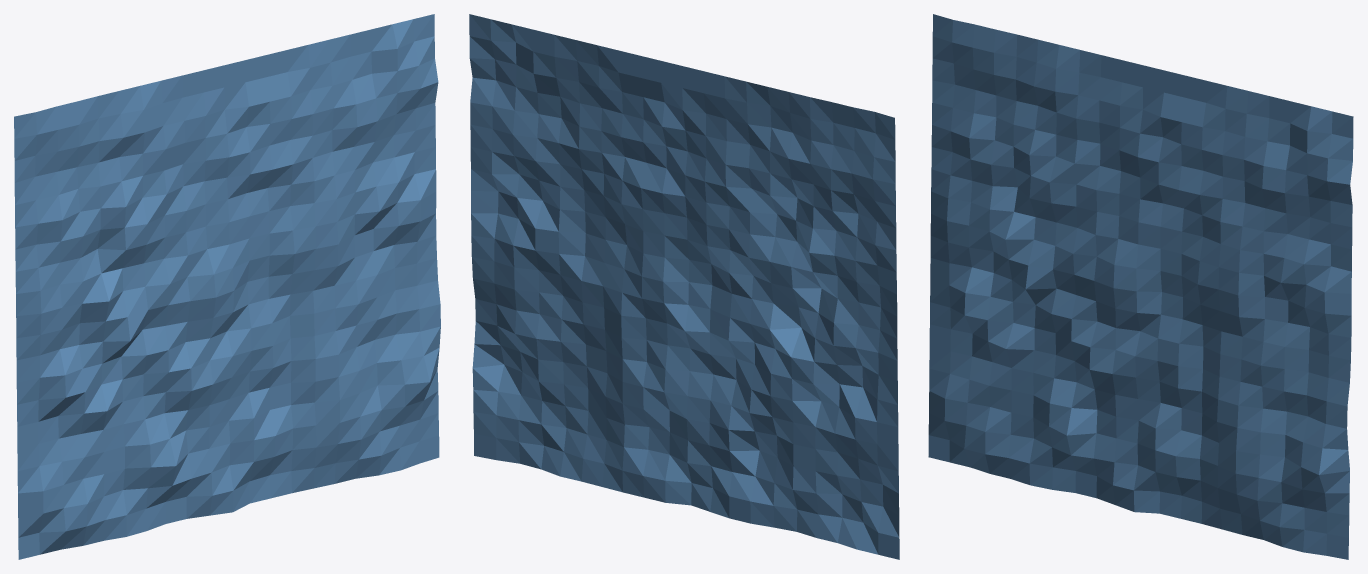
Rendered from node_lev3.glb.
3 renders of one model, left to right at view 1: azimuth 30°, elevation 25°; view 2: azimuth 150°, elevation 25°; view 3: azimuth 330°, elevation 25°, orthographic.
Parts seen in each view (by area): view 1: node_lev3; view 2: node_lev3; view 3: node_lev3.
Boxes of the visible parts, left/top/right/bottom form: node_lev3: left=14, top=14, right=440, bottom=559; node_lev3: left=469, top=14, right=899, bottom=559; node_lev3: left=928, top=14, right=1353, bottom=559.
Bounding box in the file's own units: 105 × 105 × 6.72.
